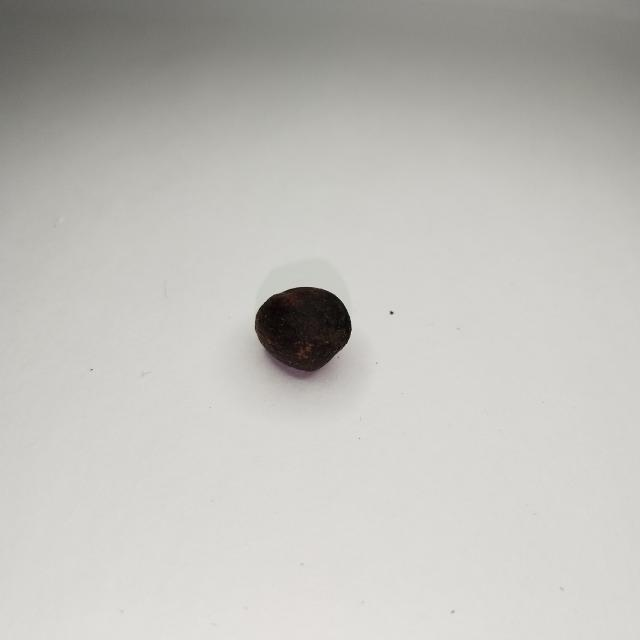Danado: (255, 288, 351, 373)
